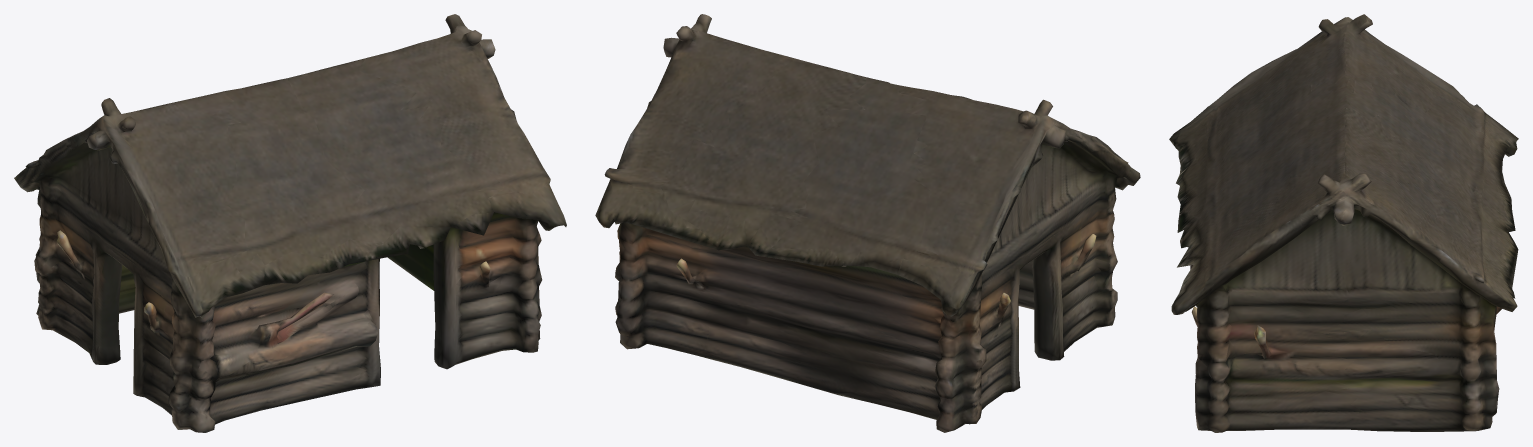
Rendered from log_cabin.glb.
3 renders of one model, left to right at view 1: azimuth 30°, elevation 25°; view 2: azimuth 150°, elevation 25°; view 3: azimuth 270°, elevation 25°, orthographic. The views are drawn at different scales.
Parts seen in each view (by area): view 1: LogCabin; view 2: LogCabin; view 3: LogCabin.
Part boxes in pixels (box(x1,y1,x2,y2)): LogCabin: box(14, 14, 566, 432); LogCabin: box(595, 14, 1140, 432); LogCabin: box(1169, 14, 1518, 432).
Size of the model in its own units: 5 by 3.25 by 3.98.
1 material, 1 textured.
